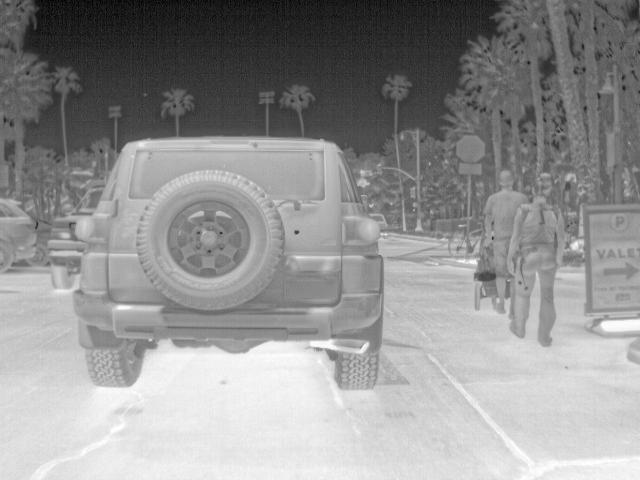car: (72, 132, 387, 391), (47, 185, 109, 286), (0, 194, 42, 275), (370, 210, 390, 235)
person: (502, 172, 562, 348), (479, 170, 528, 314)
